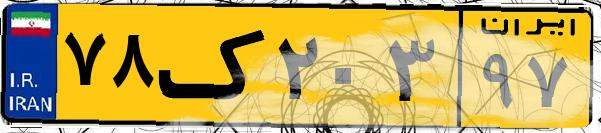0: (330, 28, 385, 110)
2: (270, 28, 330, 110)
3: (385, 28, 445, 110)
7: (57, 26, 110, 100), (525, 38, 570, 115)
8: (110, 28, 158, 98)
9: (475, 38, 525, 113)
ک: (158, 12, 270, 120)
